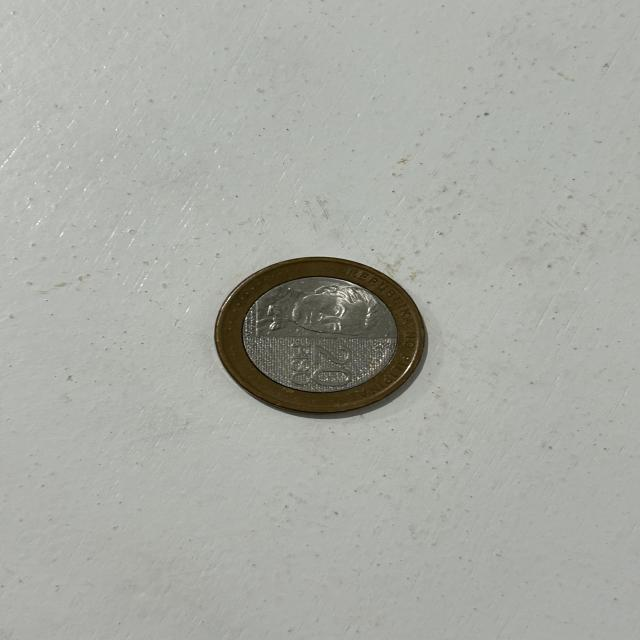20_New_Front: (283, 340, 372, 398)
